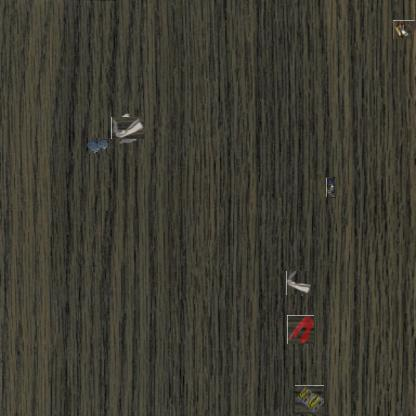dirty: (295, 385, 324, 415), (114, 115, 142, 142), (286, 272, 311, 296), (394, 20, 416, 39), (326, 178, 335, 198)
liquid: (287, 315, 314, 344), (86, 138, 110, 154)
